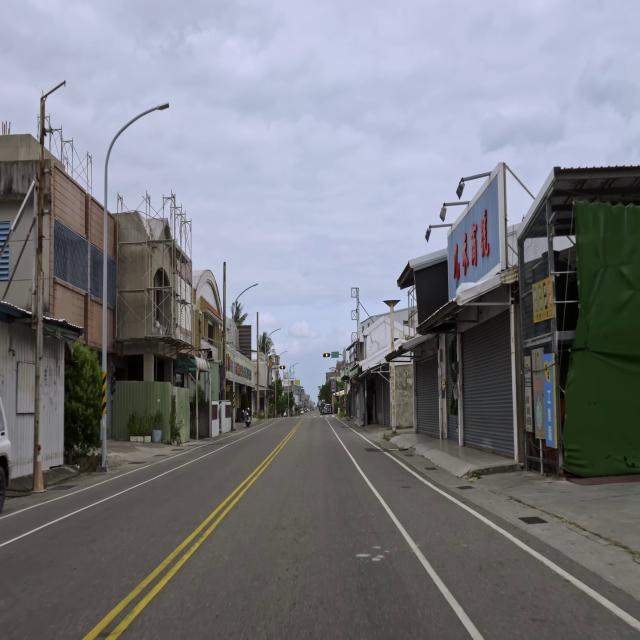yellow light: (279, 365, 285, 370), (323, 353, 330, 357)
